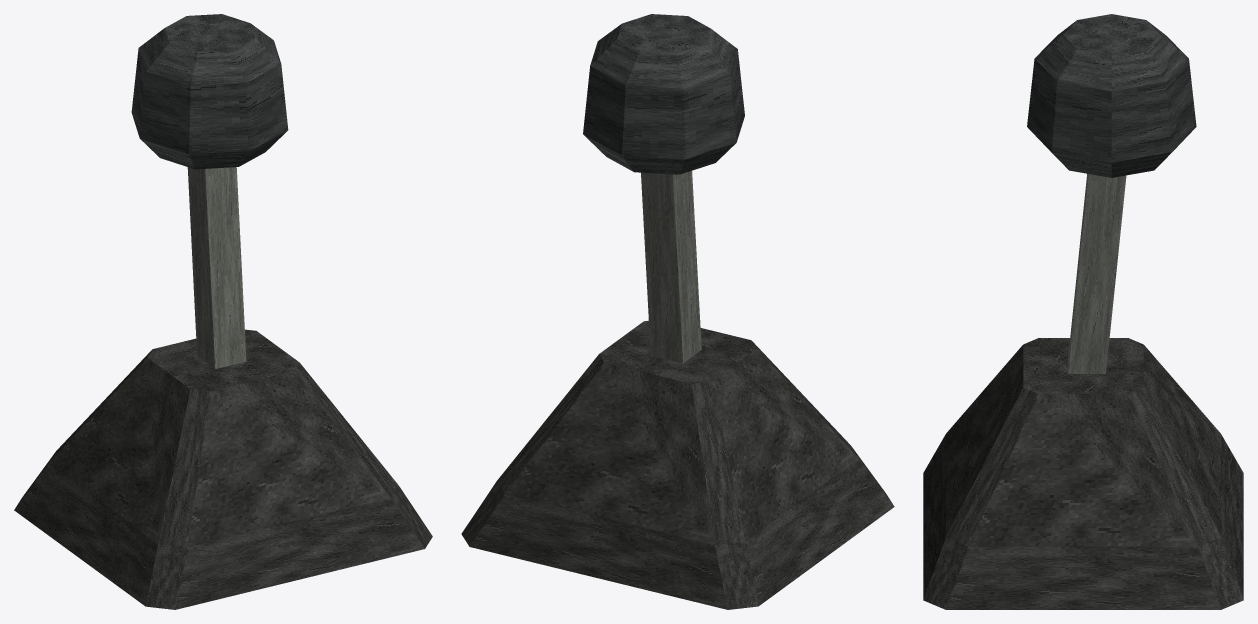
File: gear_lever.glb
3 renders of one model, left to right at view 1: azimuth 30°, elevation 25°; view 2: azimuth 150°, elevation 25°; view 3: azimuth 270°, elevation 25°, orthographic. The views are drawn at different scales.
Visible parts, largest first — view 1: Body; view 2: Body; view 3: Body.
Boxes of the visible parts, <box> form: Body: <box>14,14,432,609</box>; Body: <box>461,14,894,609</box>; Body: <box>923,14,1243,609</box>.
Bounding box in the file's own units: 0.184 × 0.294 × 0.17.
1 material, 1 textured.
